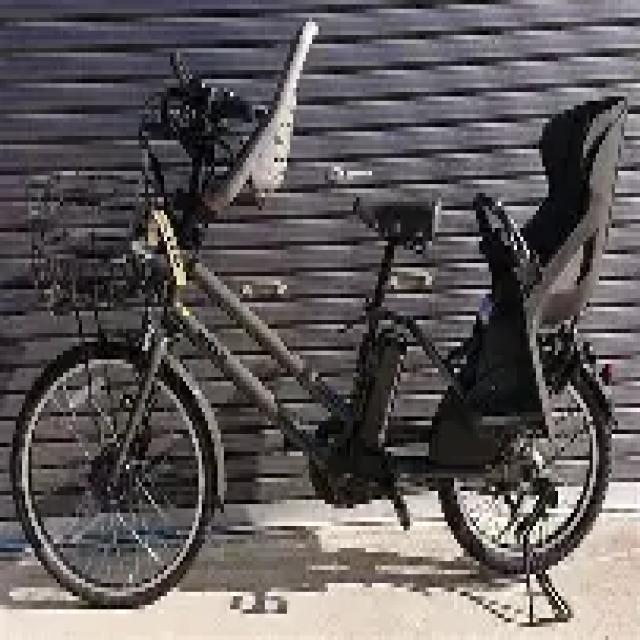basket: (27, 175, 172, 309)
battery: (365, 327, 399, 458)
childseat: (442, 94, 632, 472), (201, 20, 330, 232)
